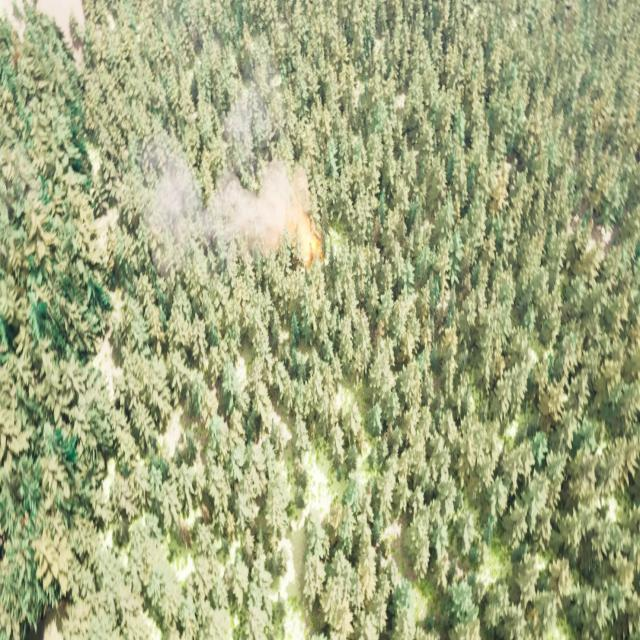fire: (300, 222, 322, 265)
smoke: (146, 68, 308, 270)
